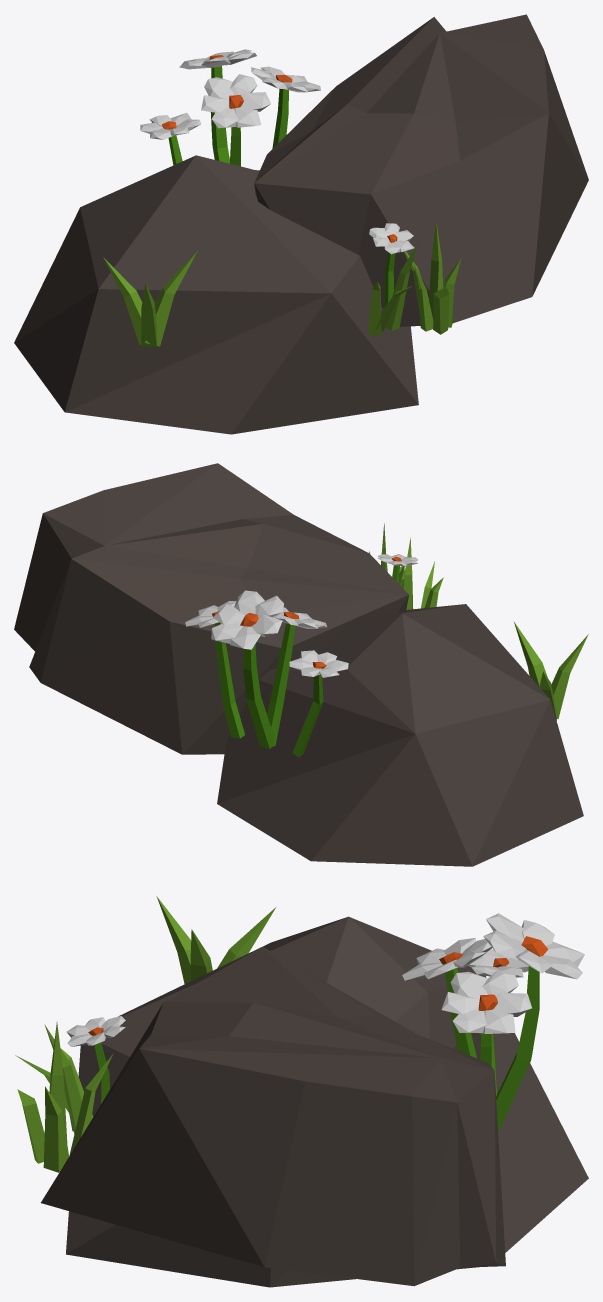
Rendered from rock3.obj.
3 renders of one model, top to bottom at view 1: azimuth 30°, elevation 25°; view 2: azimuth 150°, elevation 25°; view 3: azimuth 270°, elevation 25°, orthographic. The views are drawn at different scales.
Parts seen in each view (by area): view 1: Rock10_Cylinder.044; view 2: Rock10_Cylinder.044; view 3: Rock10_Cylinder.044.
Part boxes in pixels (x1,y1,x2,y2): Rock10_Cylinder.044: (14,14,588,434); Rock10_Cylinder.044: (14,463,588,866); Rock10_Cylinder.044: (15,896,588,1287).
Size of the model in its own units: 3.16 by 1.31 by 2.18.
